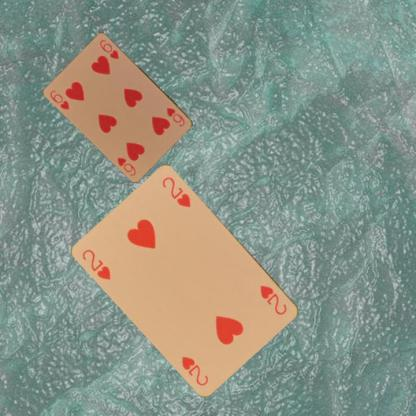2h: (80, 246, 112, 282), (258, 283, 289, 316)
6h: (164, 104, 186, 128), (48, 88, 70, 111)
